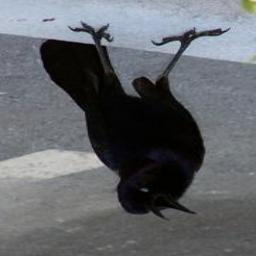Crow: (41, 23, 232, 223)
